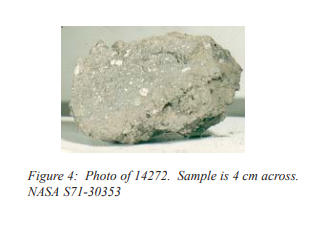Breccia: (64, 30, 238, 143)
